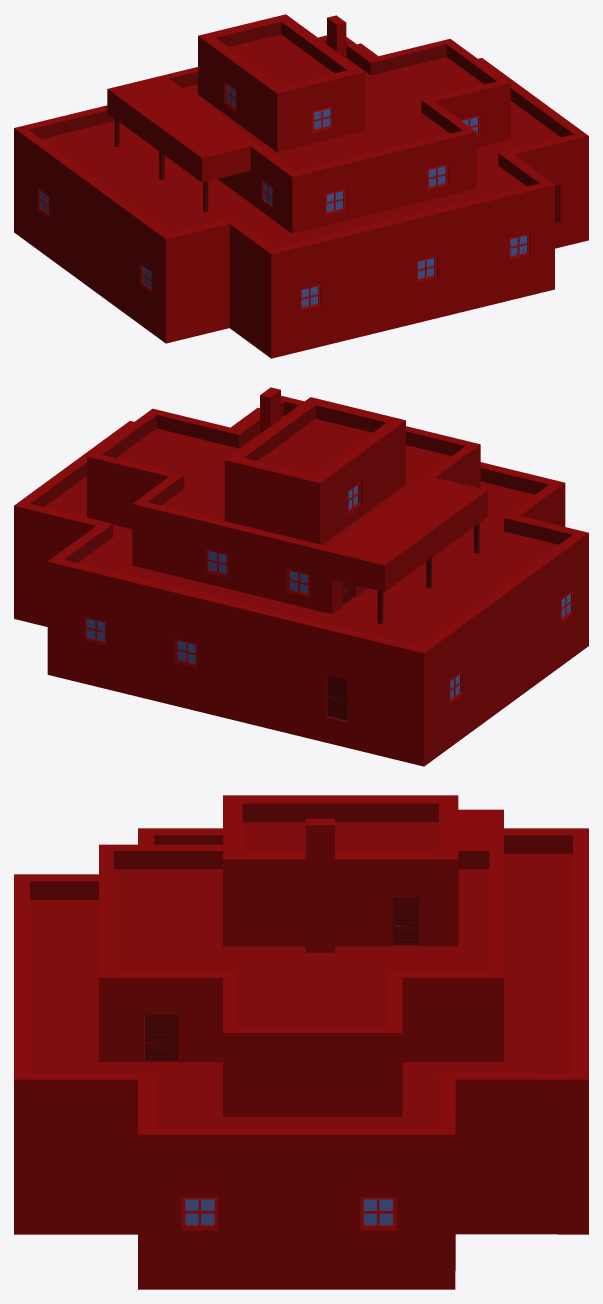
Rendered from buildings-residential-largeadobehouse_v1.fbx.
The picture shows the model from 3 angles, top to bottom: view 1: azimuth 30°, elevation 25°; view 2: azimuth 150°, elevation 25°; view 3: azimuth 270°, elevation 25°; orthographic projection. The views are drawn at different scales.
Visible parts, largest first — view 1: LargeAdobeHouse_v1_base, LargeAdobeHouse_v1_windowRefl; view 2: LargeAdobeHouse_v1_base, LargeAdobeHouse_v1_windowRefl; view 3: LargeAdobeHouse_v1_base, LargeAdobeHouse_v1_windowRefl.
Part boxes in pixels (x1,y1,x2,y2): LargeAdobeHouse_v1_base: [14, 14, 588, 358]; LargeAdobeHouse_v1_windowRefl: [40, 84, 527, 307]; LargeAdobeHouse_v1_base: [14, 387, 588, 766]; LargeAdobeHouse_v1_windowRefl: [87, 485, 570, 699]; LargeAdobeHouse_v1_base: [14, 795, 588, 1289]; LargeAdobeHouse_v1_windowRefl: [185, 1199, 392, 1225].
Size of the model in its own units: 39.39 by 19.74 by 31.24.
